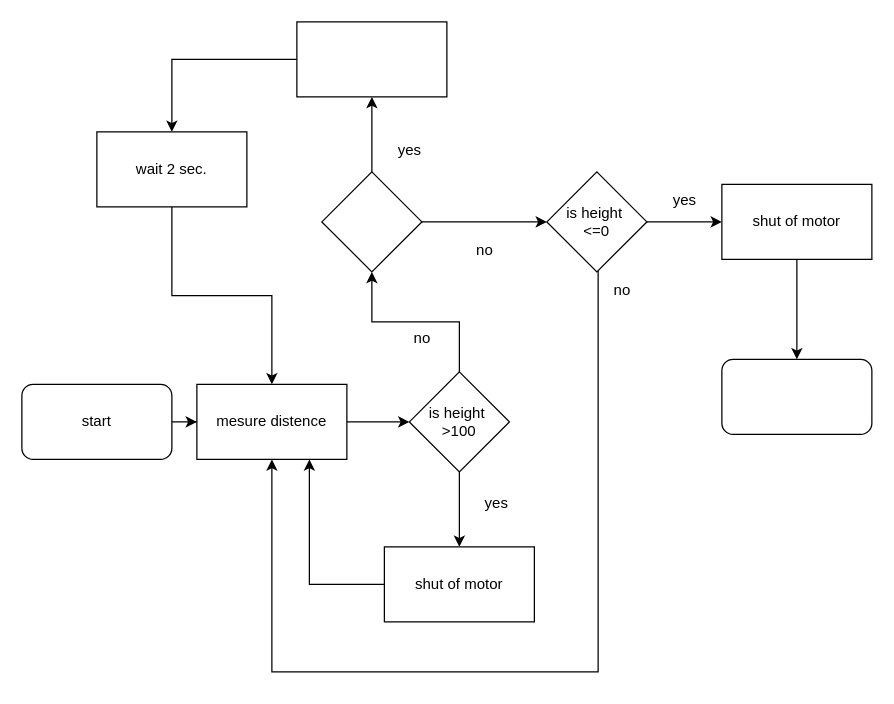
The diagram is 894 pixels wide and 704 high, and some of its shapes have lost their labels. Each missing label, with the centre of its shape:
end: (796,396)
is height <= 100: (371,221)
run motor: (371,59)
